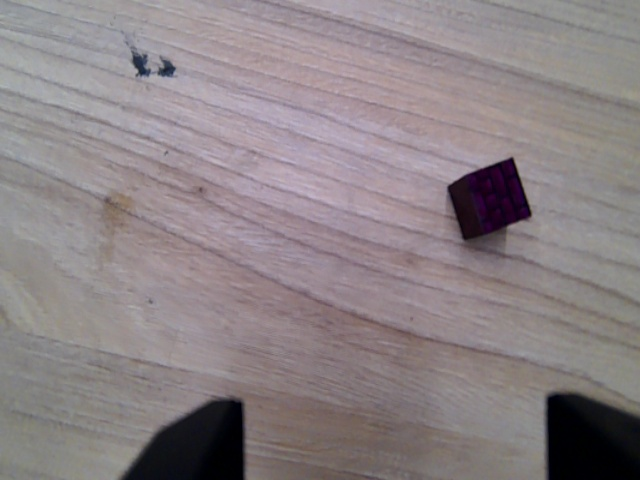brick: (449, 151, 533, 242)
